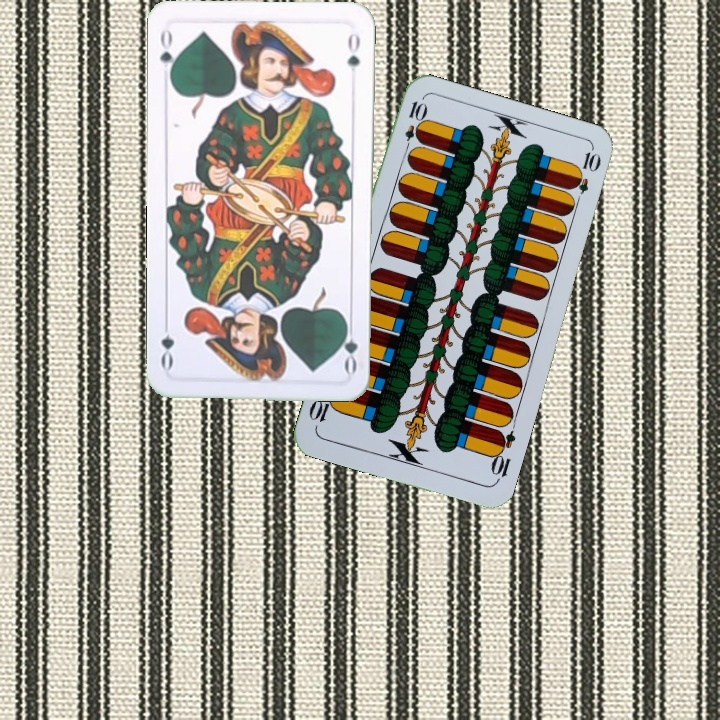E10: (486, 426, 518, 485), (400, 97, 427, 156)
GO: (156, 25, 181, 84), (339, 316, 360, 375)
